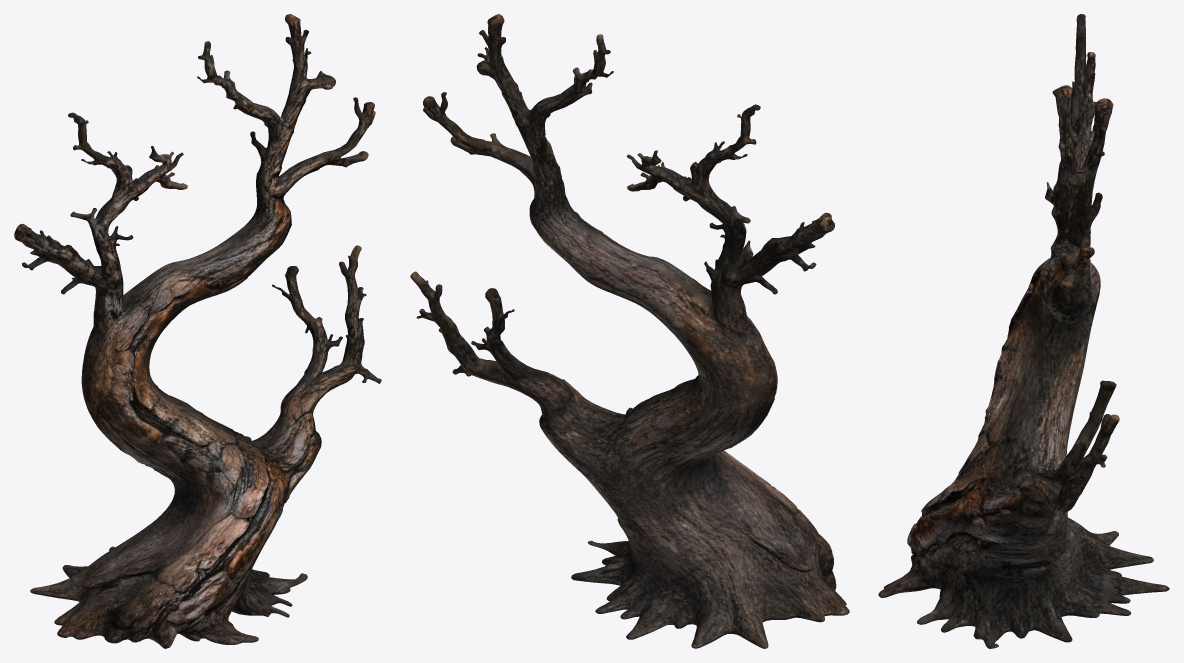
Rendered from pixellabs-dead-tree-3551.high.glb.
3 renders of one model, left to right at view 1: azimuth 30°, elevation 25°; view 2: azimuth 150°, elevation 25°; view 3: azimuth 270°, elevation 25°, orthographic. The views are drawn at different scales.
Parts seen in each view (by area): view 1: material; view 2: material; view 3: material.
Boxes of the visible parts, left/top/right/bottom form: material: left=14, top=14, right=381, bottom=648; material: left=410, top=14, right=849, bottom=648; material: left=878, top=14, right=1169, bottom=648.
Bounding box in the file's own units: 0.7358 × 0.9916 × 0.4569.
Materials: 1 (1 with a texture image).
